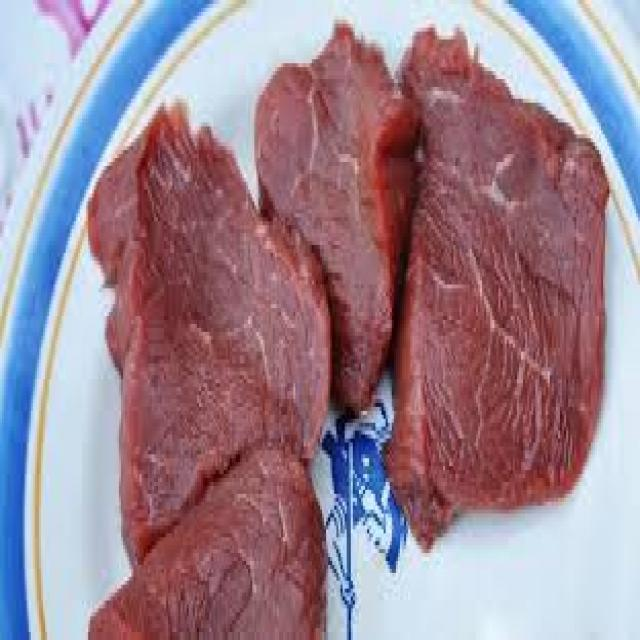beef: (388, 32, 611, 549), (90, 107, 332, 565), (256, 24, 418, 415), (90, 446, 326, 640)
